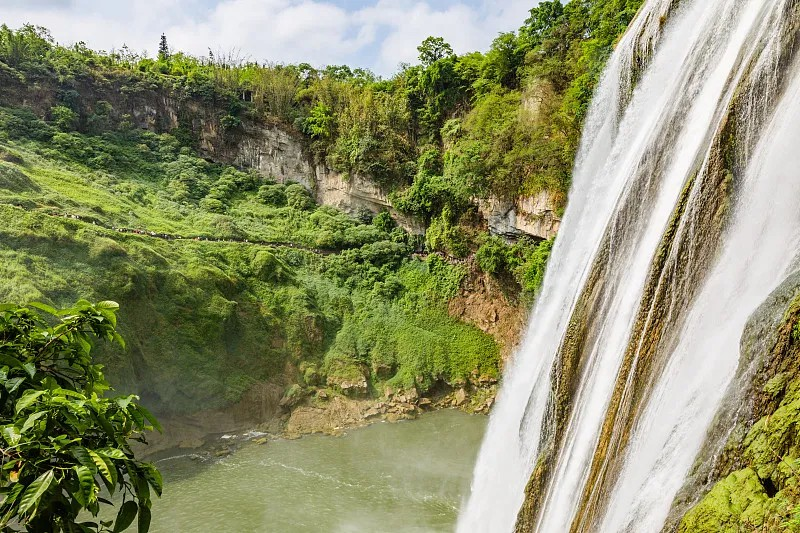Huangguoshu: (456, 1, 799, 533)
